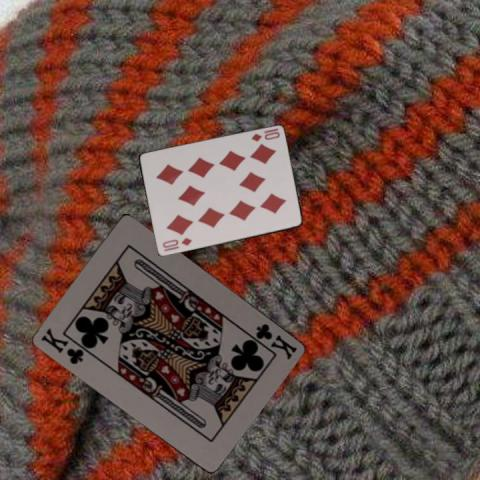10d: (248, 126, 281, 144), (160, 235, 194, 249)
Kc: (37, 325, 85, 366), (252, 320, 298, 361)
